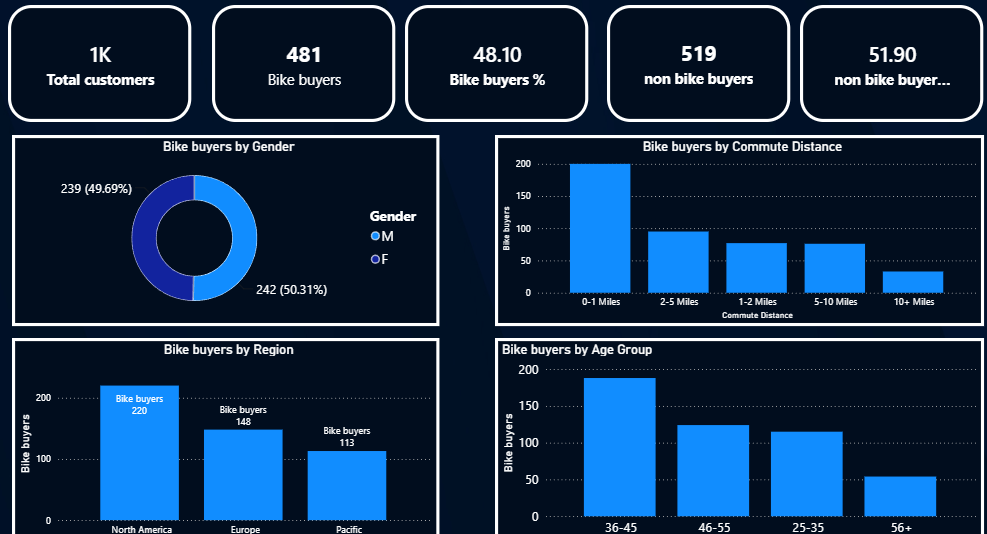

The page's visual inventory and layout, read from the dashboard file:
{"tool":"powerbi","page":{"name":"Dashboard Overview","canvas":[1280,720],"ordinal":0},"visuals":[{"type":"cardVisual","fields":{"Data":["bike_buyers raw data.Total buyers"]},"box":[277.2,13.4,235.2,149.5],"z":0},{"type":"cardVisual","fields":{"Data":["bike_buyers raw data.total non buyers"]},"box":[782.8,13.4,235.2,149.5],"z":1000},{"type":"cardVisual","fields":{"Data":["bike_buyers raw data.Bike buyers %"]},"box":[524.1,13.4,235.2,149.5],"z":2000},{"type":"cardVisual","fields":{"Data":["bike_buyers raw data.non bike buyers %"]},"box":[1031.4,13.4,235.2,149.5],"z":3000},{"type":"cardVisual","fields":{"Data":["bike_buyers raw data.Total customers"]},"box":[15.1,13.4,235.2,149.5],"z":4000},{"type":"clusteredColumnChart","fields":{"Category":["bike_buyers raw data.Region"],"Y":["bike_buyers raw data.Bike buyers"]},"box":[20.2,440.1,547.6,280.5],"z":5000},{"type":"columnChart","fields":{"Category":["bike_buyers raw data.Commute Distance"],"Y":["bike_buyers raw data.Total buyers"]},"box":[640,179.7,626.6,245.2],"z":6000},{"type":"donutChart","fields":{"Category":["bike_buyers raw data.Gender"],"Y":["bike_buyers raw data.Bike buyers"]},"box":[20.2,179.7,547.6,245.2],"z":7000},{"type":"clusteredColumnChart","fields":{"Category":["bike_buyers raw data.Age Group"],"Y":["bike_buyers raw data.Bike buyers"]},"box":[640,440.1,626.6,280.5],"z":8000}]}

Visuals, with their boxes on the page's 1280x720 design canvas (x1, y1, x2, y2). These are canvas units, not pixel positions in the 987x534 screenshot, which may show the page scaled, cropped or inside an application window:
cardVisual - bike_buyers raw data.Total buyers: detection(277, 13, 512, 163)
cardVisual - bike_buyers raw data.total non buyers: detection(783, 13, 1018, 163)
cardVisual - bike_buyers raw data.Bike buyers %: detection(524, 13, 759, 163)
cardVisual - bike_buyers raw data.non bike buyers %: detection(1031, 13, 1267, 163)
cardVisual - bike_buyers raw data.Total customers: detection(15, 13, 250, 163)
clusteredColumnChart - bike_buyers raw data.Region x bike_buyers raw data.Bike buyers: detection(20, 440, 568, 721)
columnChart - bike_buyers raw data.Commute Distance x bike_buyers raw data.Total buyers: detection(640, 180, 1267, 425)
donutChart - bike_buyers raw data.Gender x bike_buyers raw data.Bike buyers: detection(20, 180, 568, 425)
clusteredColumnChart - bike_buyers raw data.Age Group x bike_buyers raw data.Bike buyers: detection(640, 440, 1267, 721)
